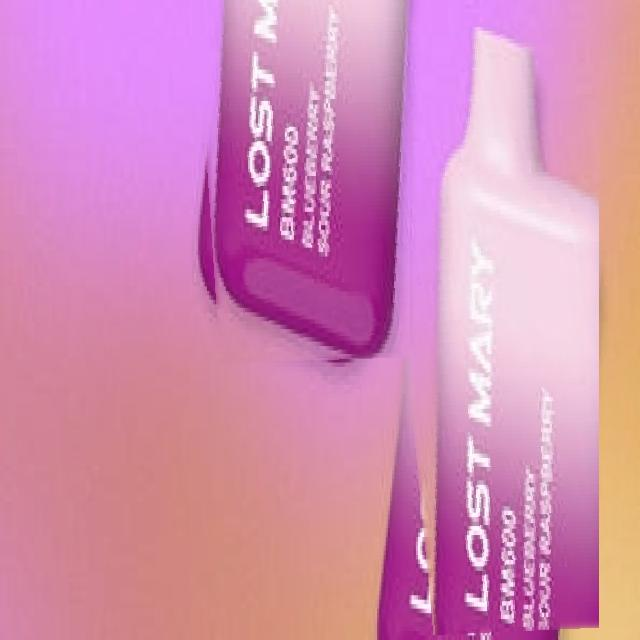Vapes: (375, 27, 599, 635), (196, 0, 410, 363)
